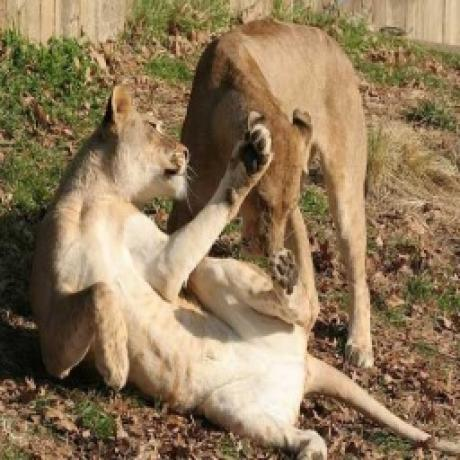Lion: (25, 77, 458, 460), (183, 19, 379, 368)
